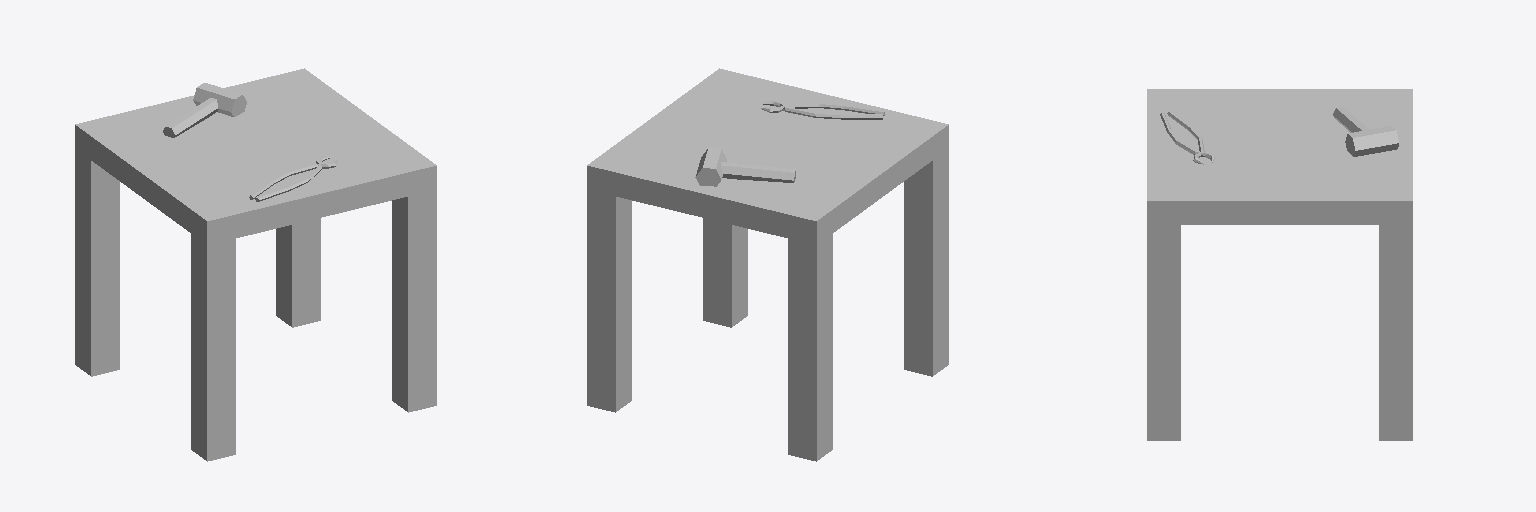
Rendered from block_workbench.obj.
3 views of the same model, side by side, from view 1: azimuth 30°, elevation 25°; view 2: azimuth 150°, elevation 25°; view 3: azimuth 270°, elevation 25° (orthographic).
Size of the model in its own units: 1 by 1.08 by 1.